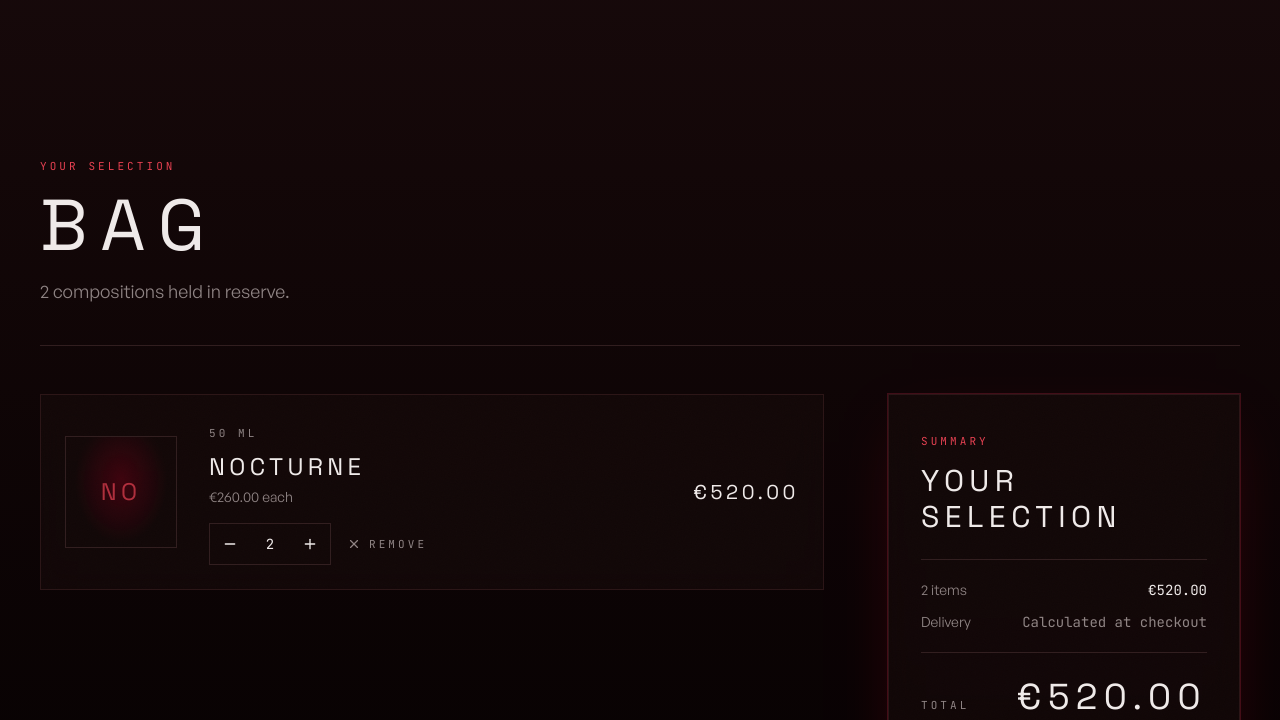
bag page › shows product, size, quantity and line total, and updates on quantity change
Check: the link "NOCTURNE" is shown, box [209,451,365,482]
Check: the text "50 ML" is shown, box [209,426,257,440]
Click the button with test id "bag.increment_button.1": (310, 544) [290,524,330,564]
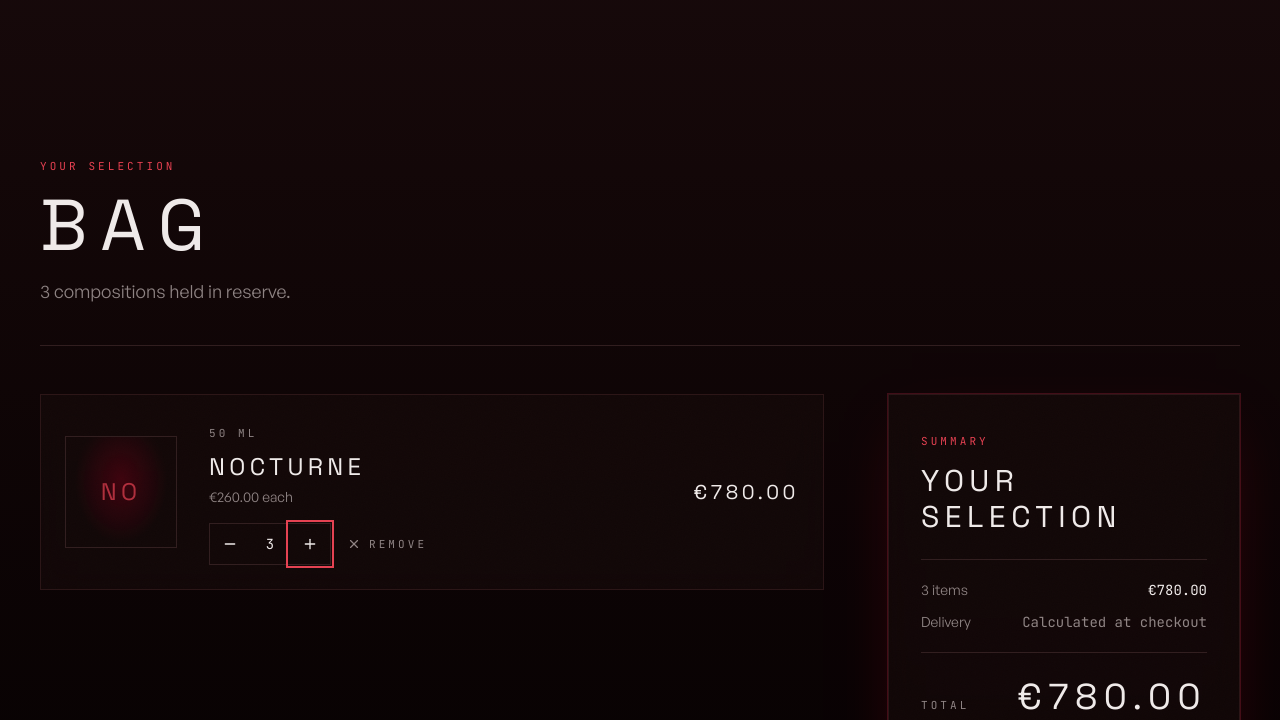
Check: the text with test id "bag.quantity.1" reads "3", box [266,535,274,553]
Check: the text with test id "bag.line_total.1" reads "€780.00", box [694,479,799,505]
Check: the text with test id "bag.total" reads "€780.00", box [1017,674,1207,719]
